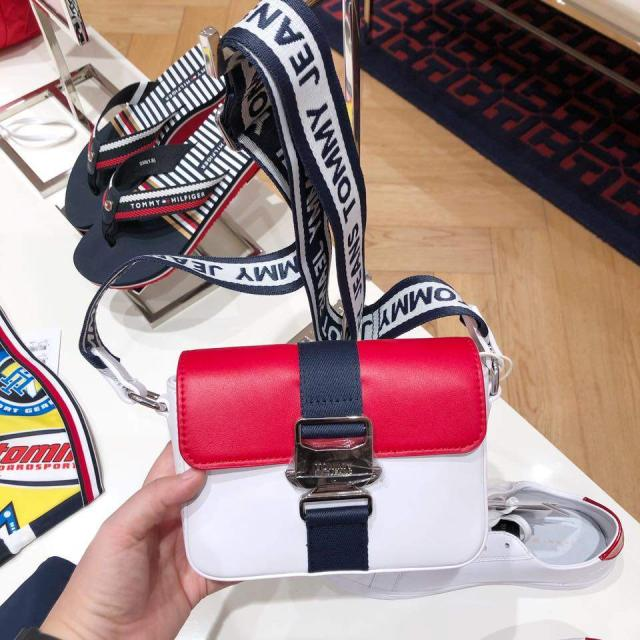bag: (130, 318, 550, 603)
